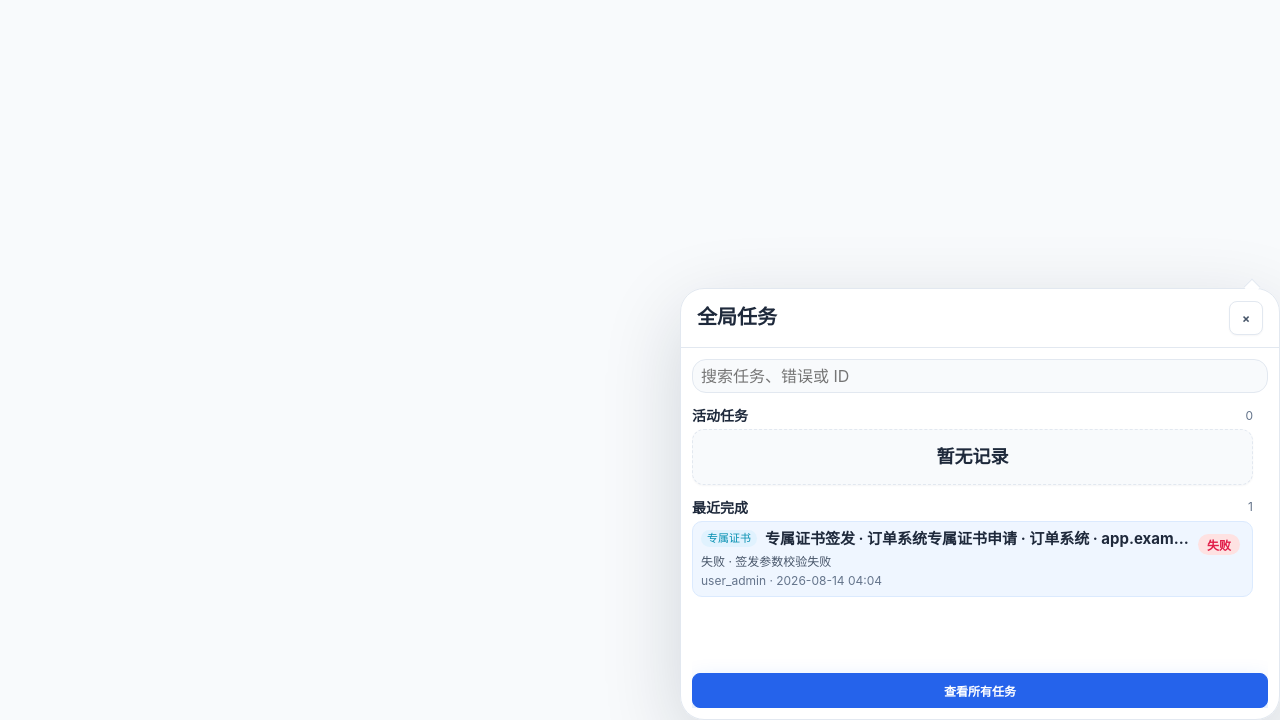
TaskDrawer ACME 任务展示 › 专属证书签发详情使用业务摘要和可读时间线，并保留技术明细折叠入口
(page scrolled)
Expected: the text with class "task-drawer__item-type" reads "专属证书", top-left (707, 531), bottom-right (751, 545)
Click the button with class "task-drawer__item-open".
click(729, 539)  # box top-left (693, 522), bottom-right (1190, 596)
(page scrolled)
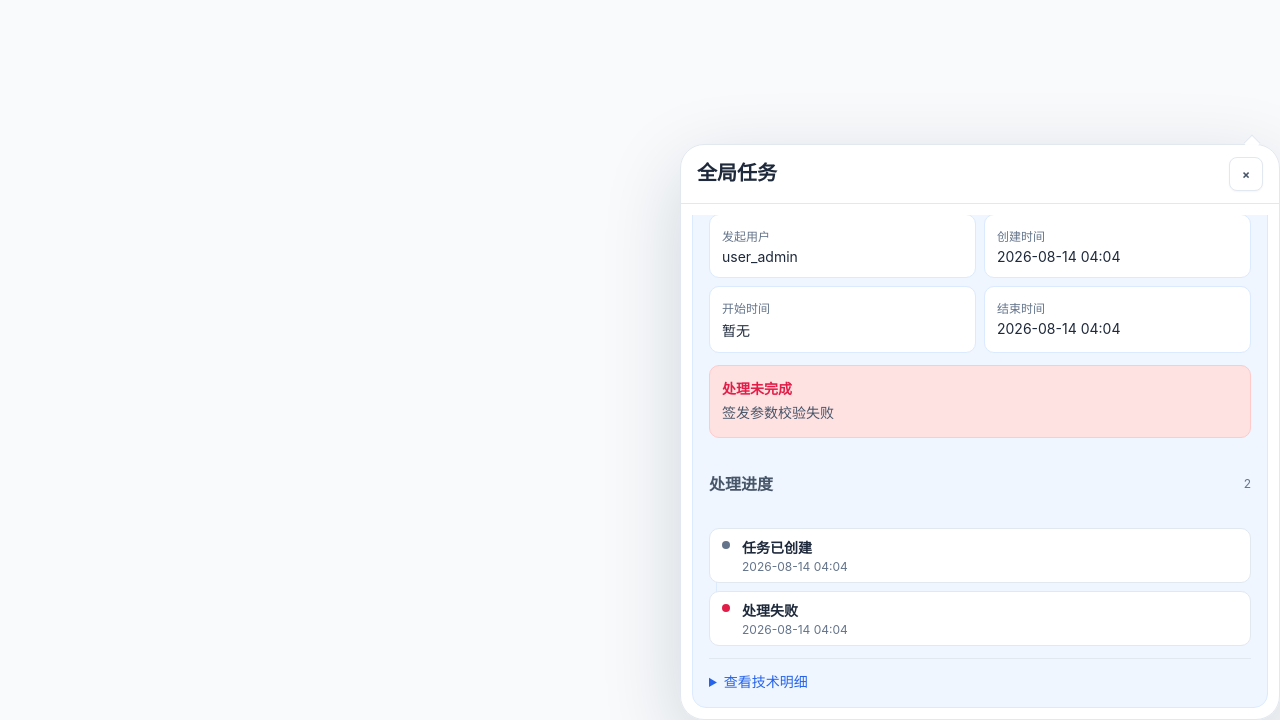
Expected: the element with class "task-drawer__dedicated-detail" shows "任务已创建", top-left (742, 539), bottom-right (812, 556)
Expected: the element with class "task-drawer__dedicated-detail" shows "处理失败", top-left (742, 602), bottom-right (798, 619)
Expected: the element with class "task-drawer__dedicated-error" shows "签发参数校验失败", top-left (722, 404), bottom-right (834, 421)
